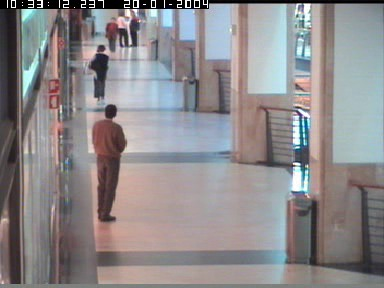person: (91, 103, 126, 221), (83, 44, 109, 104), (104, 17, 117, 53), (116, 11, 128, 47), (129, 12, 140, 47), (57, 120, 63, 138)
